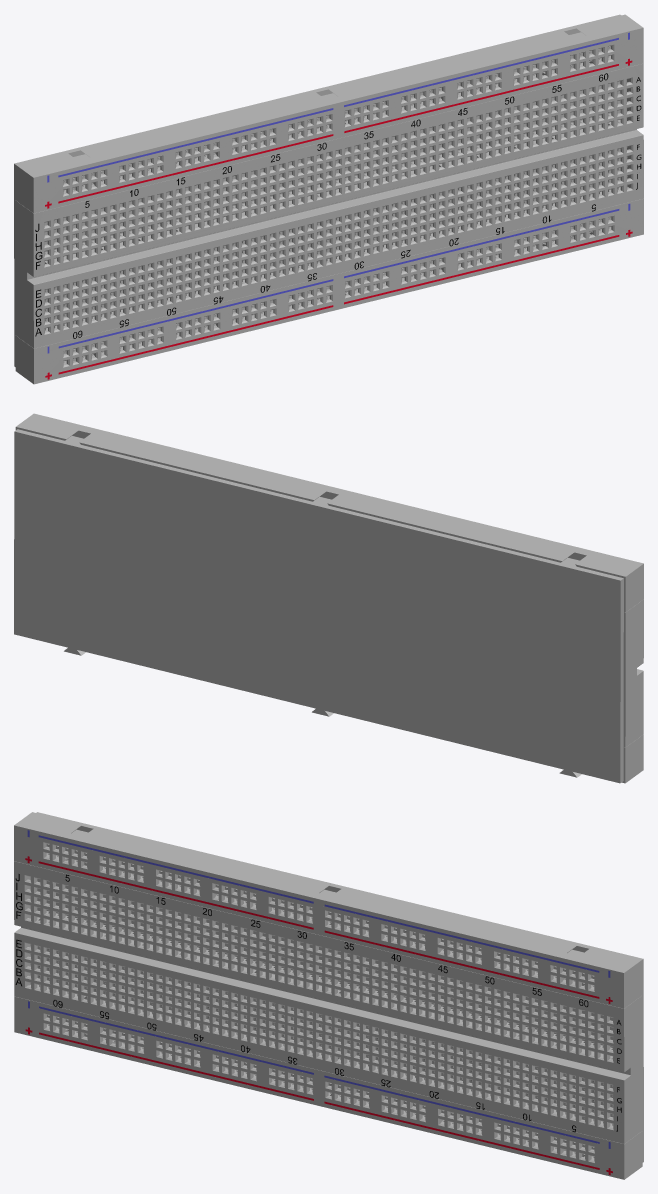
The model's file is protoboard.fbx.
3 views of the same model, one above another, from view 1: azimuth 30°, elevation 25°; view 2: azimuth 150°, elevation 25°; view 3: azimuth 330°, elevation 25° (orthographic).
Visible parts, largest first — view 1: Object_142; view 2: Object_142; view 3: Object_142.
Part boxes in pixels (x1,y1,x2,y2): Object_142: [14, 14, 643, 384]; Object_142: [14, 413, 643, 783]; Object_142: [14, 812, 643, 1179].
Bounding box in the file's own units: 16.36 × 5.48 × 1.
